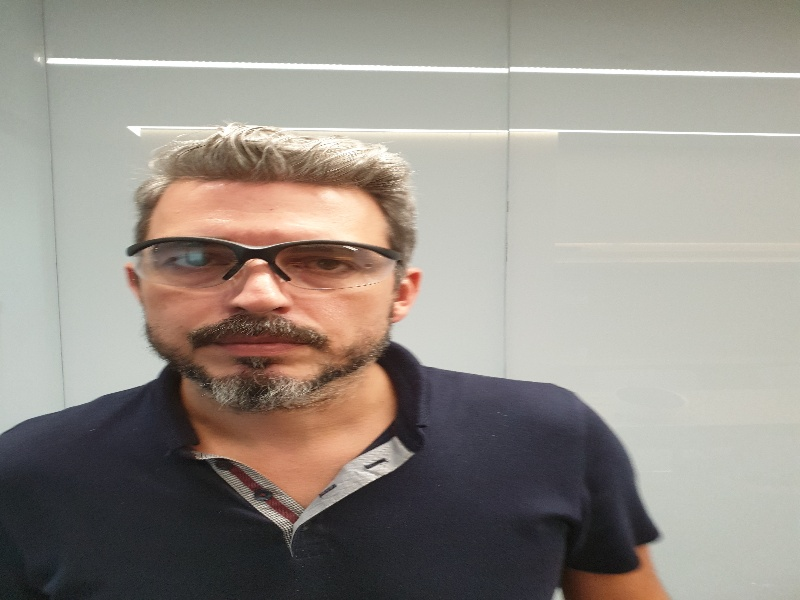Gozluk: (121, 237, 406, 293)
